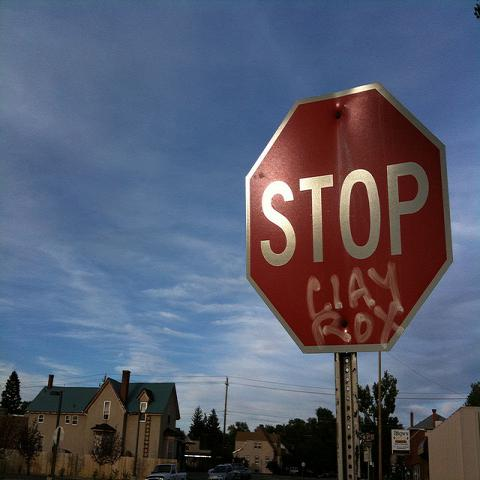car: (144, 463, 187, 479), (208, 461, 233, 479)
